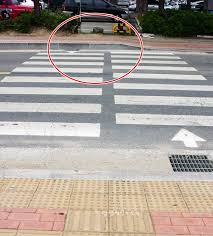guide_blocks: (2, 180, 213, 212), (64, 214, 151, 236), (2, 229, 61, 236)
